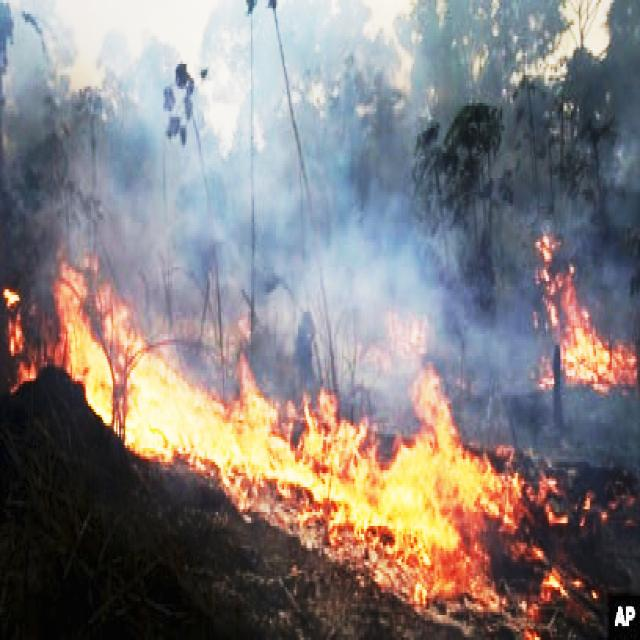api: (51, 253, 538, 622), (521, 218, 640, 402), (4, 268, 44, 399)
asap: (1, 1, 564, 466)
